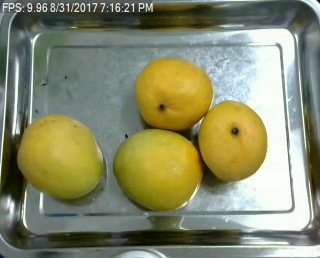Mango: (112, 128, 205, 211), (17, 115, 104, 200), (195, 100, 269, 180), (135, 56, 214, 129)
